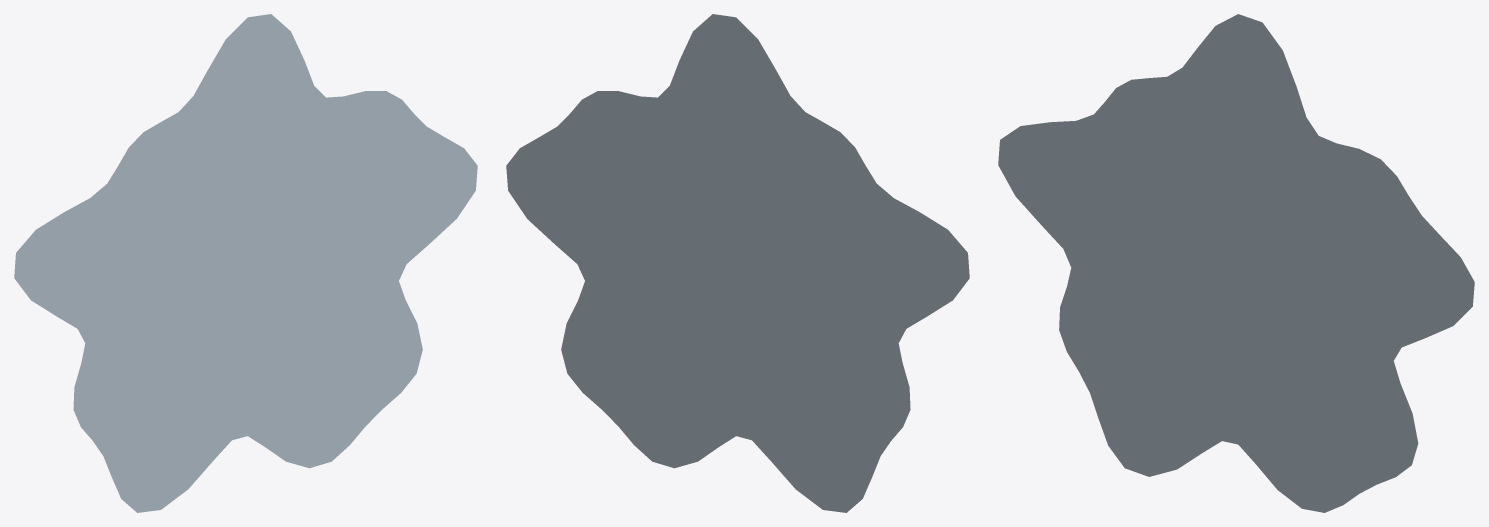
The model's file is 2046_DustSplash_MudFleck.fbx.
3 renders of one model, left to right at view 1: azimuth 30°, elevation 25°; view 2: azimuth 150°, elevation 25°; view 3: azimuth 330°, elevation 25°, orthographic. The views are drawn at different scales.
Visible parts, largest first — view 1: PART_SmallMudSplashFleck; view 2: PART_SmallMudSplashFleck; view 3: PART_SmallMudSplashFleck.
Part boxes in pixels (x1=…): PART_SmallMudSplashFleck: x1=14, y1=14, x2=477, y2=512; PART_SmallMudSplashFleck: x1=506, y1=14, x2=969, y2=512; PART_SmallMudSplashFleck: x1=998, y1=14, x2=1474, y2=512.
Size of the model in its own units: 232 by 225 by 3.67e-05.
